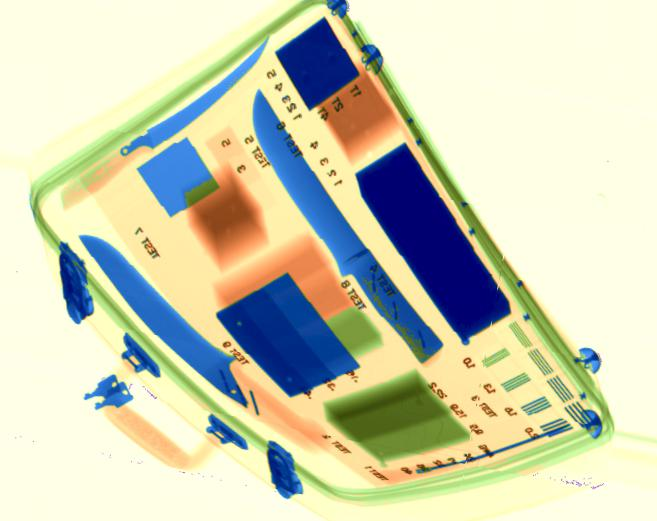Knife: (250, 87, 444, 364), (76, 234, 287, 430), (59, 36, 272, 209)
